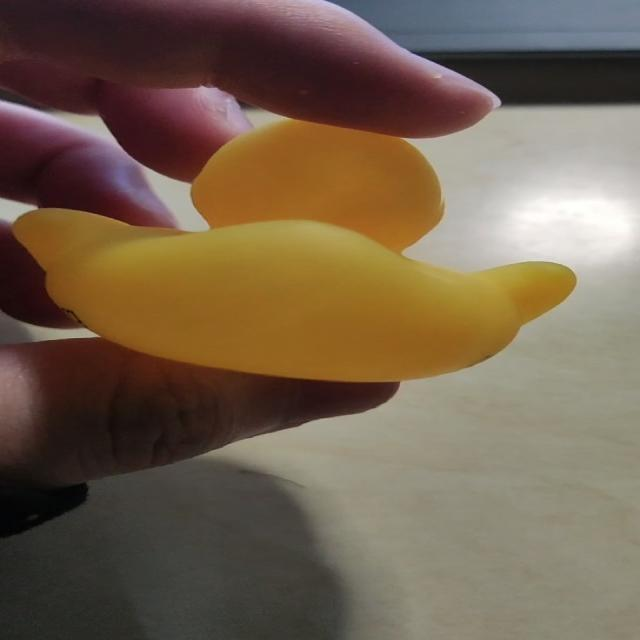rubber-duck: (12, 119, 574, 380)
